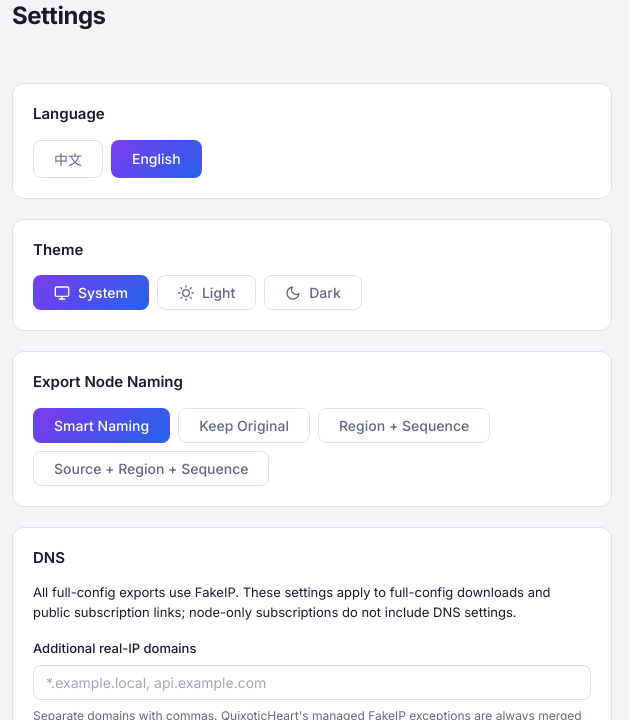
Settings data safety › rejects malformed real-IP domain patterns before saving
The width and height of the screenshot is (629, 720).
Type "example.com\"; injected: true" into the field labelled "Additional real-IP domains" at (312, 682), box [33,665,591,700]
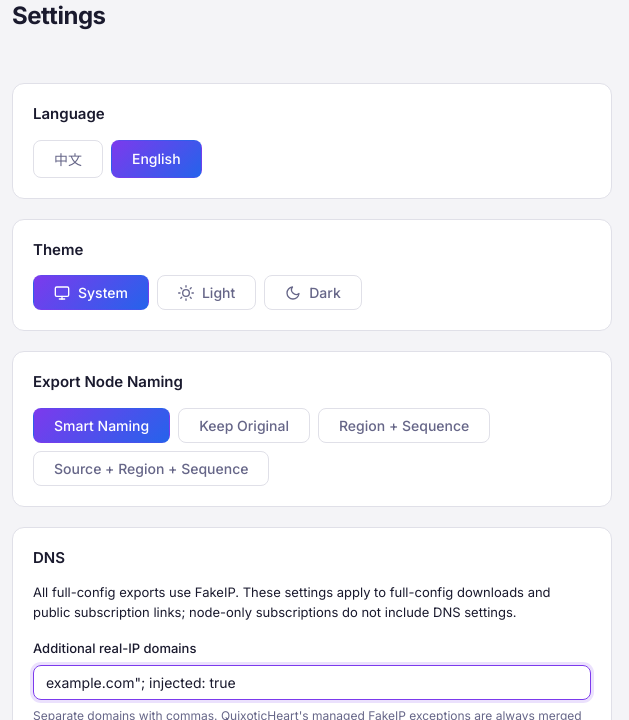
Press Tab
(page scrolled)
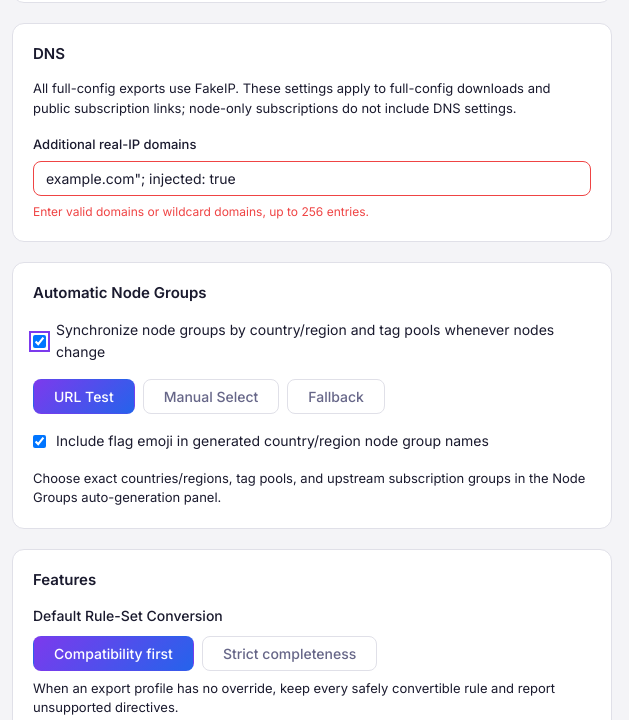
Now the text "Enter valid domains or wildcard domains, up to 256 entries." is shown, box [33,204,369,219]
